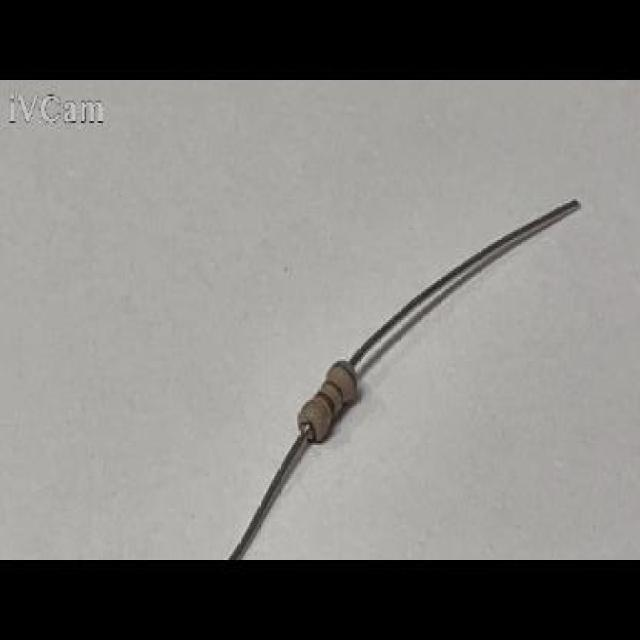Resistor: (300, 363, 354, 441)
brown: (316, 390, 338, 420)
